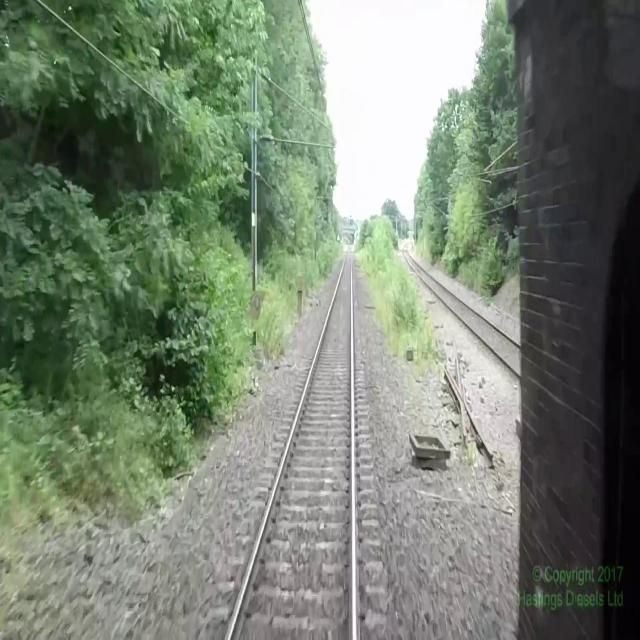rail-track: (229, 248, 351, 639)
